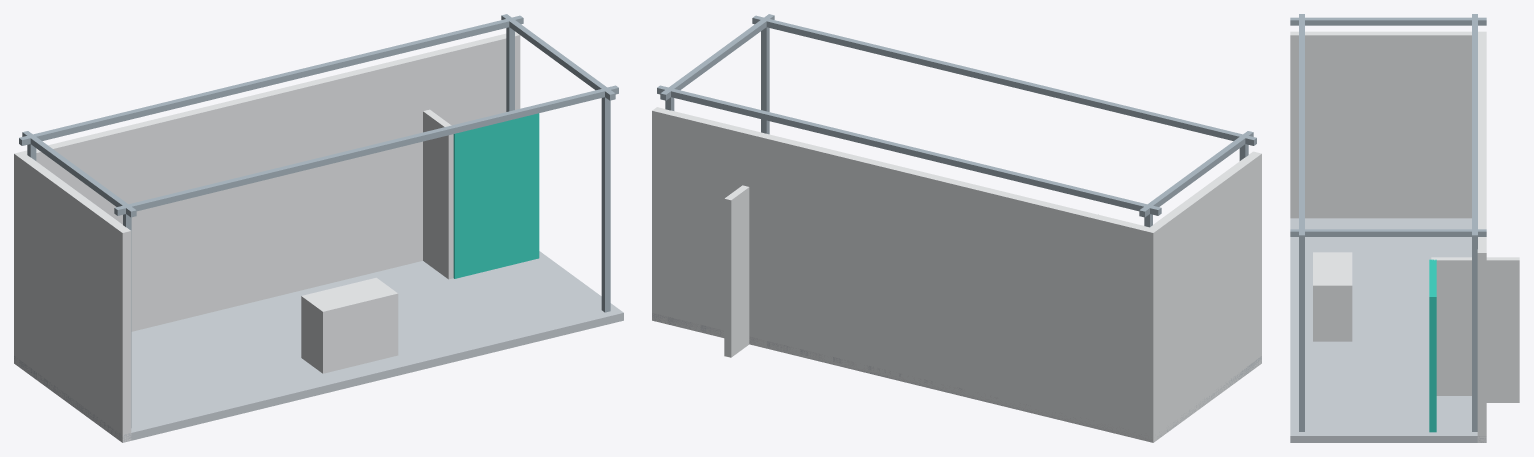
3 renders of one model, left to right at view 1: azimuth 30°, elevation 25°; view 2: azimuth 150°, elevation 25°; view 3: azimuth 270°, elevation 25°, orthographic. The views are drawn at different scales.
Visible parts, largest first — view 1: Exhibition Booth Concept; view 2: Exhibition Booth Concept; view 3: Exhibition Booth Concept.
Boxes of the visible parts, x1=… form: Exhibition Booth Concept: x1=14, y1=14, x2=623, y2=442; Exhibition Booth Concept: x1=652, y1=14, x2=1261, y2=442; Exhibition Booth Concept: x1=1290, y1=14, x2=1519, y2=442.
Bounding box in the file's own units: 8 × 3.49 × 3.51.
